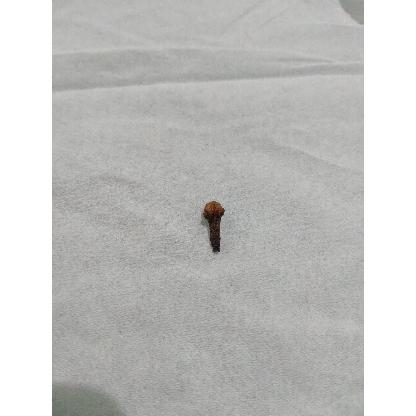sedang: (203, 201, 225, 254)
